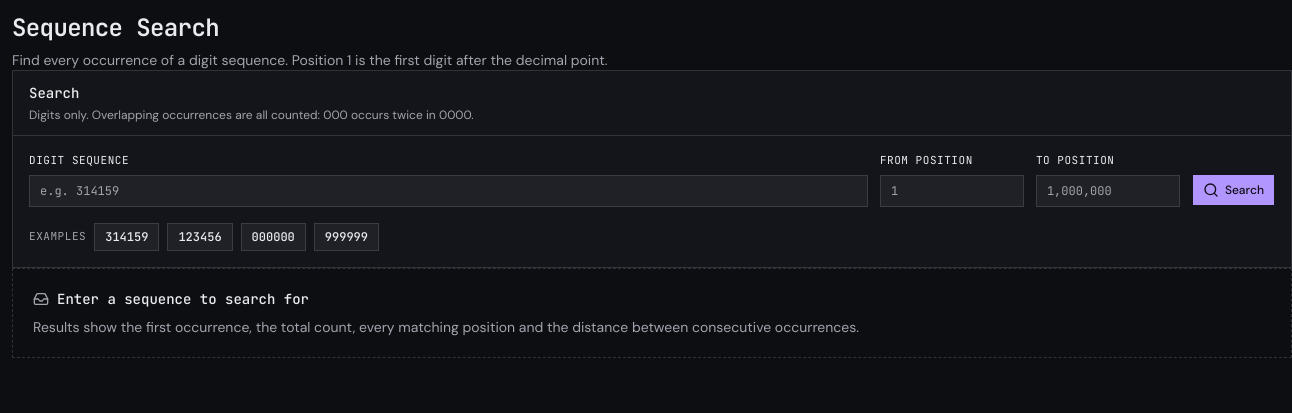
Test: SearchView › rejects a position beyond the dataset
In the field labelled "From position": (952,190) [880,174,1024,206], type "2000000"
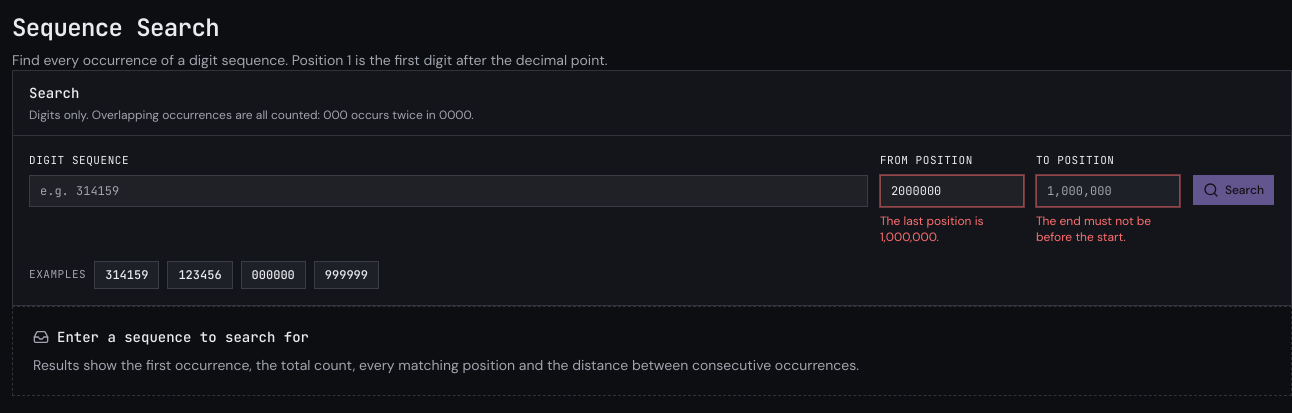
Check: the text "The last position is 1,000,000." is shown, box [880,212,984,244]
